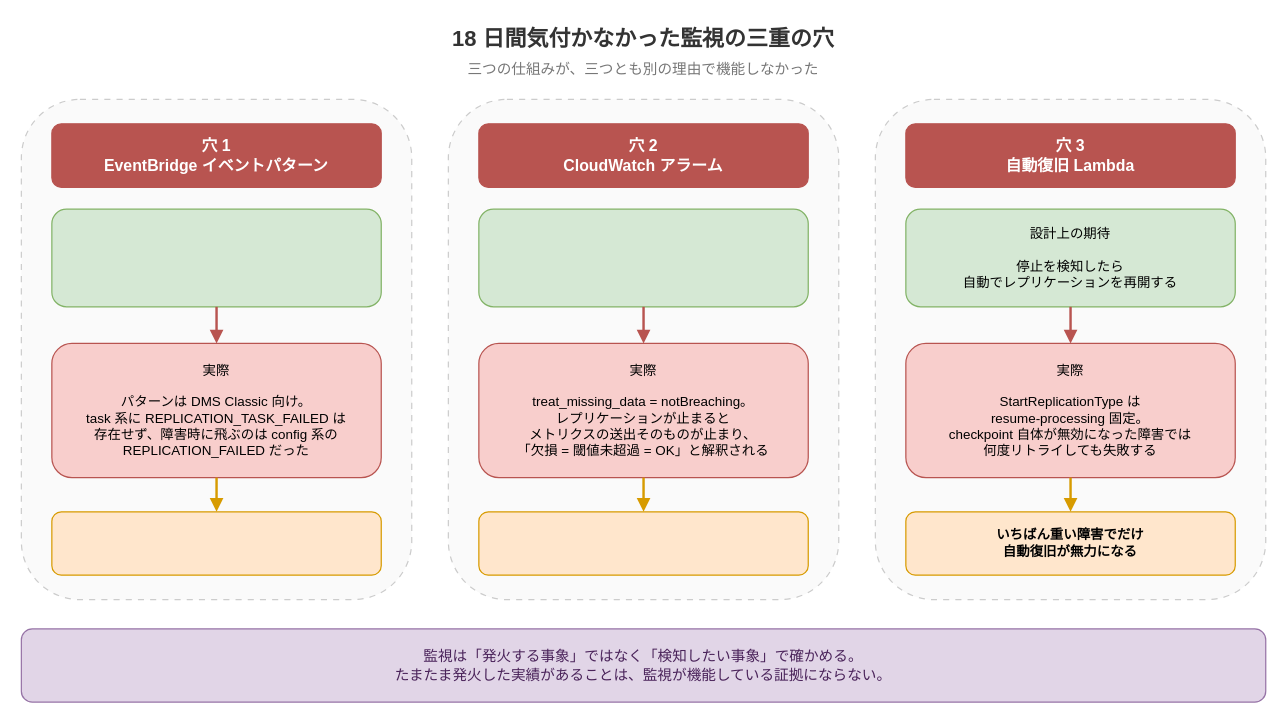
Image size: 1287x723. Some labels were removed from this diagram. Each missing label, with the centre of its shape:
"死ねば死ぬほど OK になる。 4 本すべて OK のまま 18 日" belongs at point (643, 543).
"計画停止では発火し、 本当に必要な障害でだけ発火しない" belongs at point (216, 543).
"設計上の期待 CDC レイテンシ・CPU 使用率の 閾値超過で発報する" belongs at point (643, 257).
"設計上の期待 DMS の停止・失敗イベントを拾って 通知と自動復旧を起動する" belongs at point (216, 257).
